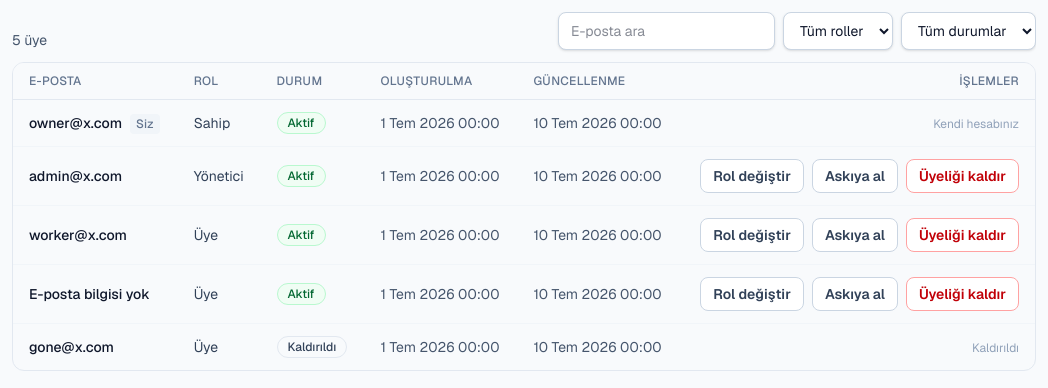
Scenario: MemberList › arama e-postaya göre filtreler; eşleşme yoksa boş durum
Type "worker" into the search field labelled "E-posta ara" at (666, 31), box [558,12,775,50]
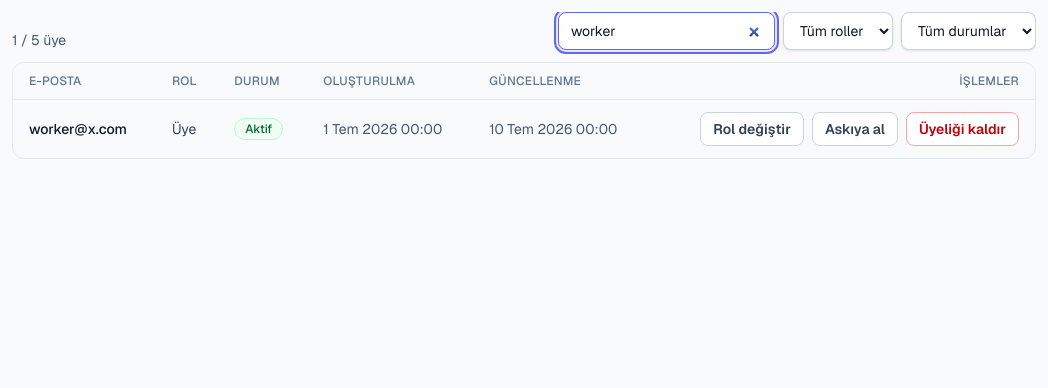
Check: the text "worker@x.com" is shown, box [13,100,156,158]
Check: the text "owner@x.com" is gone
Replace the text in the search field named "E-posta ara" with "yokboyle" at (666, 31), box [558,12,775,50]
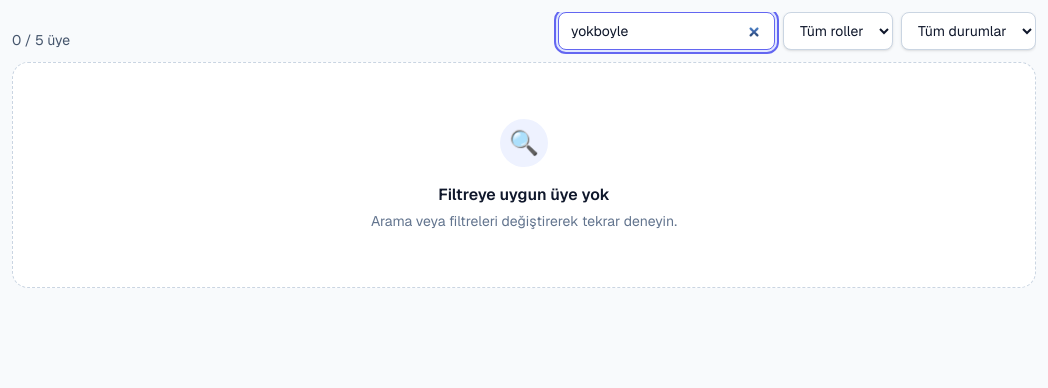
Check: the heading "Filtreye uygun üye yok" is shown, box [438,183,610,207]
